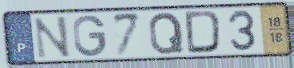3: (226, 8, 257, 53)
7: (112, 11, 142, 59)
D: (183, 9, 223, 55)
G: (71, 14, 108, 59)
N: (32, 14, 73, 60)
Q: (148, 10, 187, 56)
